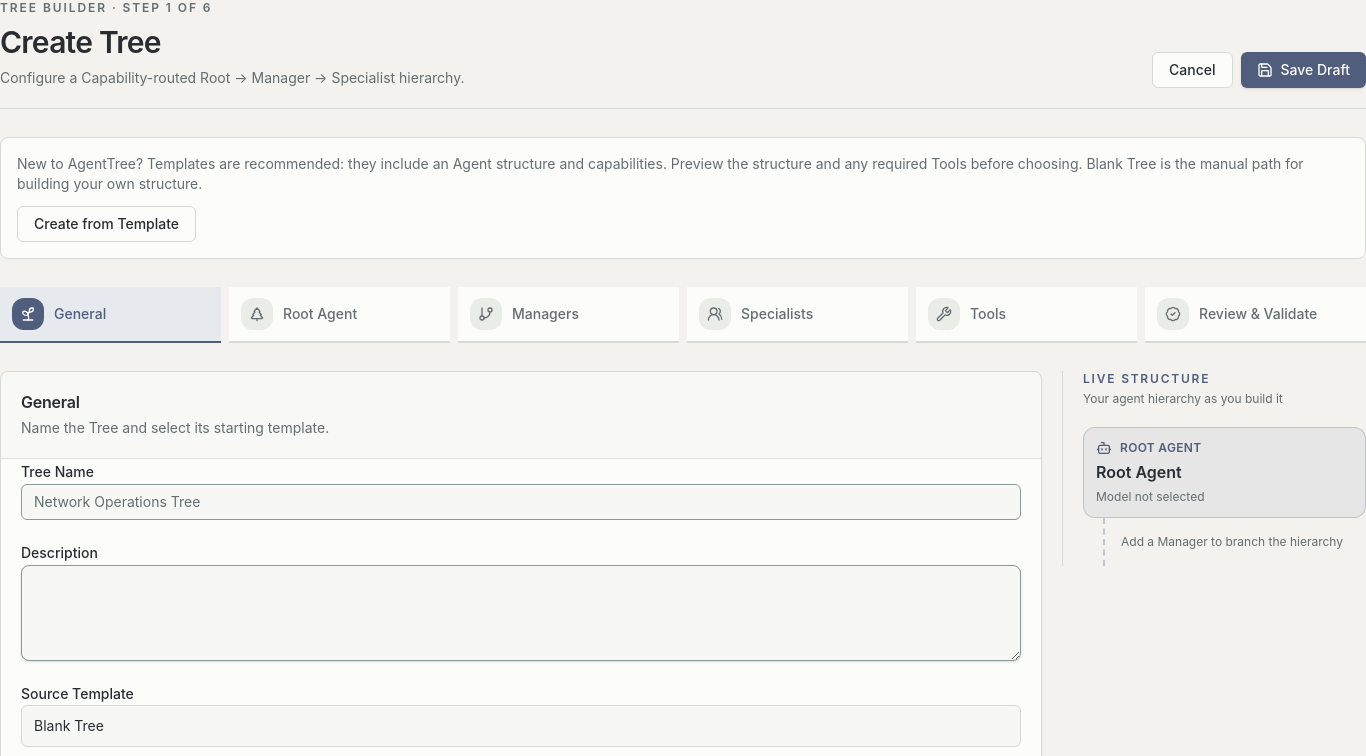
Scenario: Tree draft IDs on secure and LAN HTTP contexts › renders the Wizard and creates distinct Root, Manager, and Specialist IDs without randomUUID
Expected: the heading "Create Tree" is shown, [0, 24, 161, 60]
Click the button "Managers". click: (568, 315)
box: [458, 287, 679, 343]
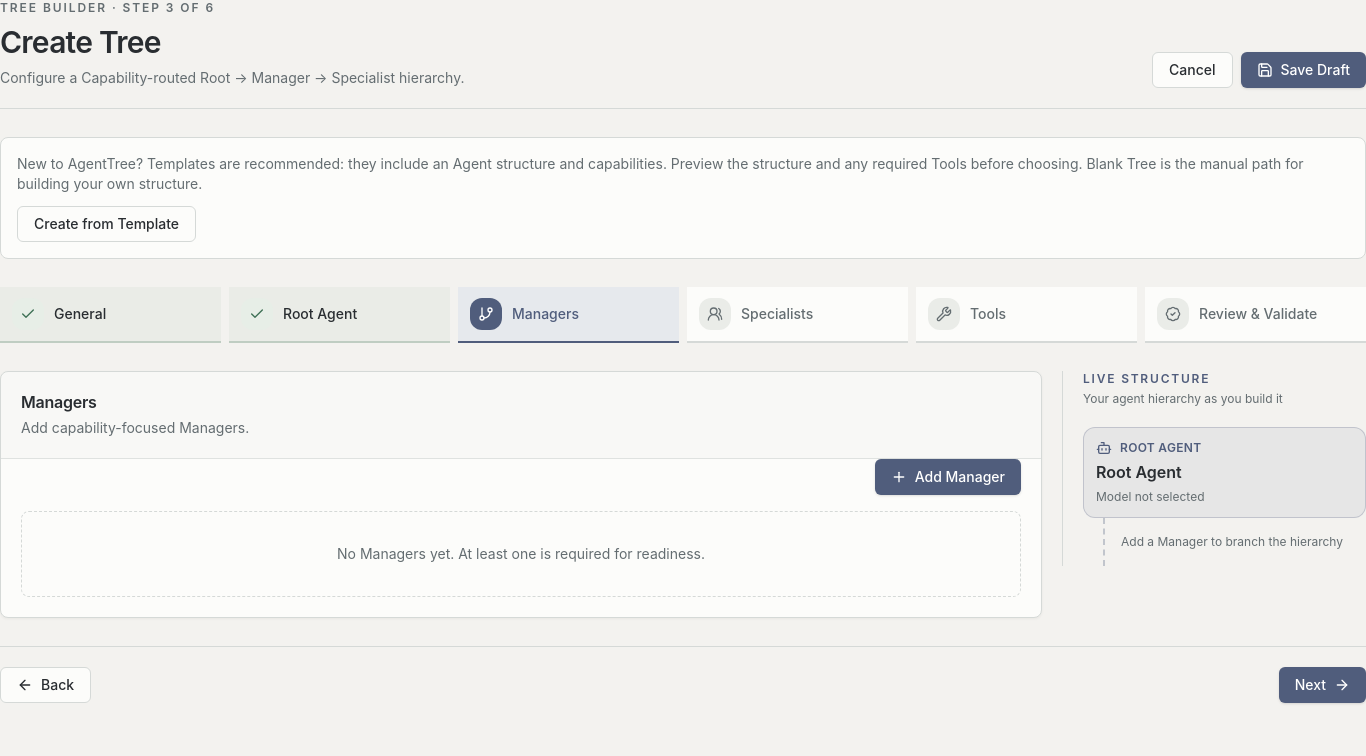
Click the button "Add Manager". click: (948, 477)
box: [875, 459, 1021, 495]
(page scrolled)
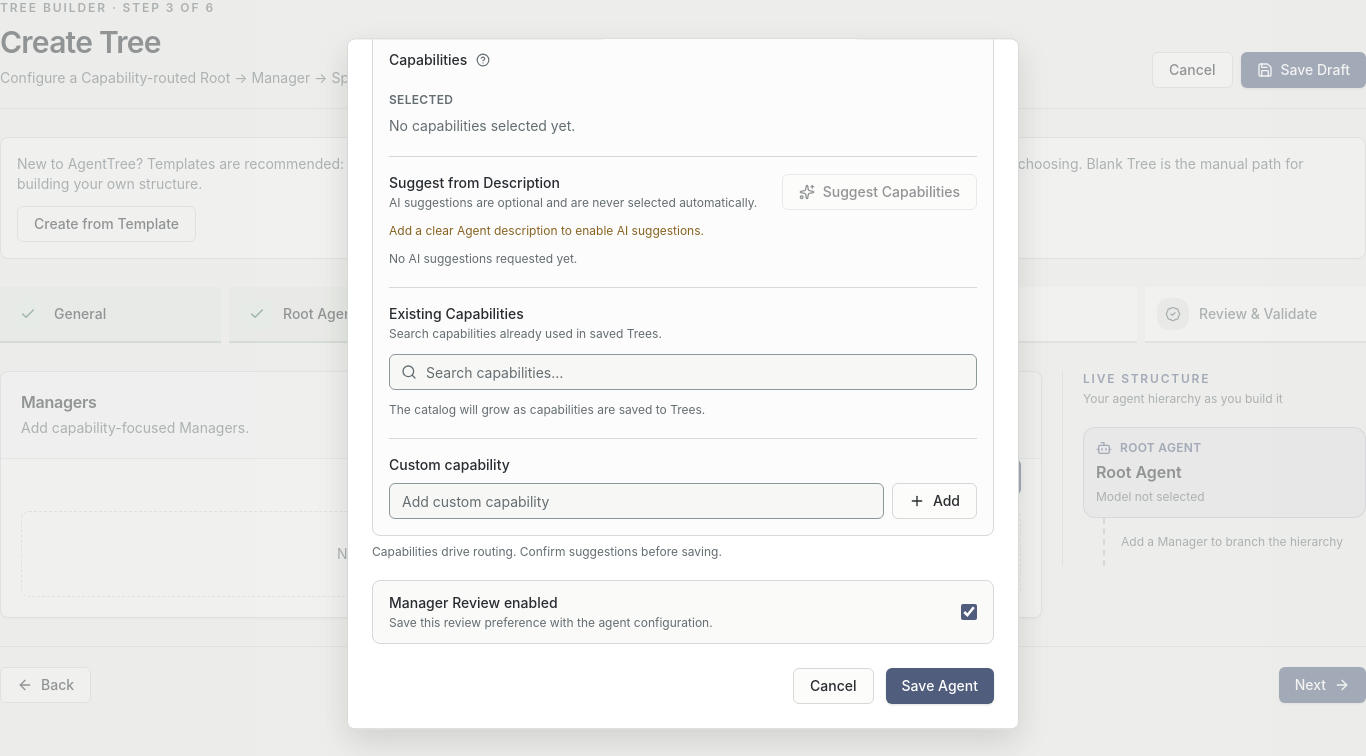
Click the button "Save Agent". click: (940, 687)
box: [886, 669, 994, 705]
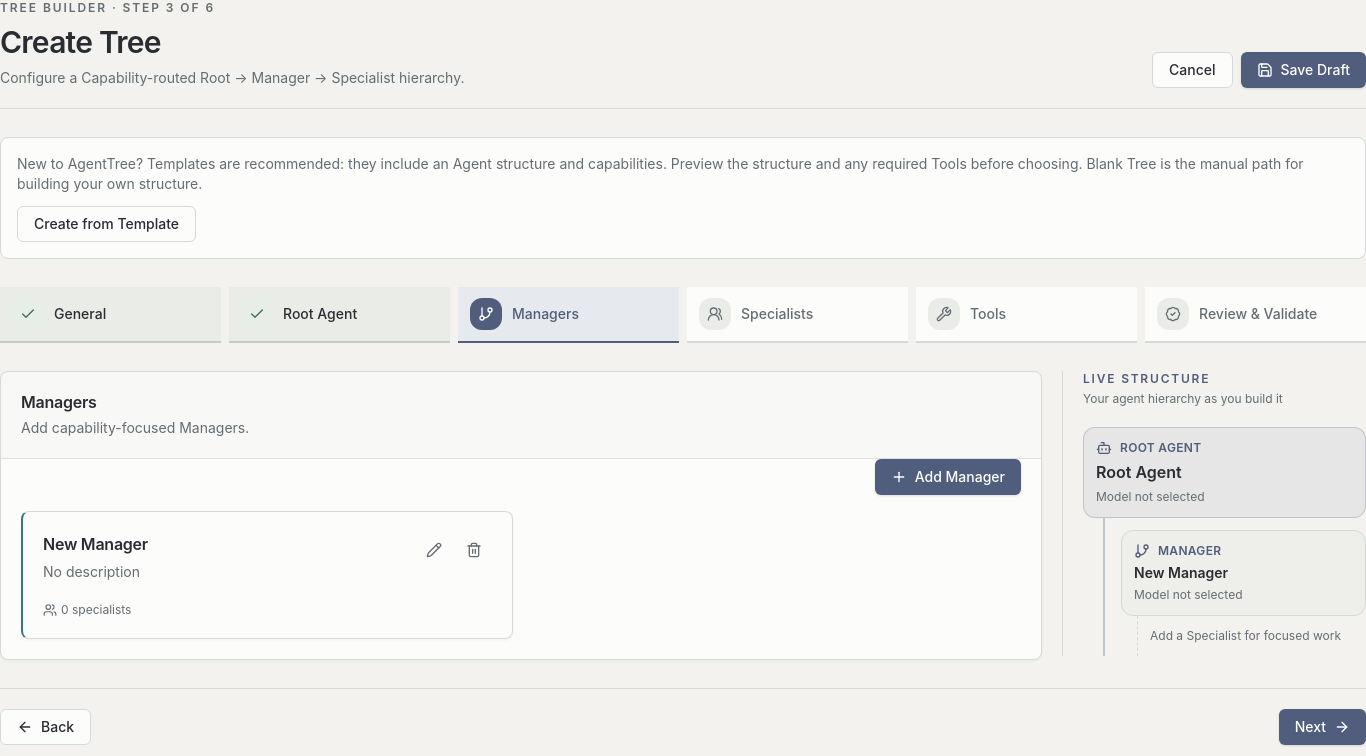
Now the heading "New Manager" is shown, box [43, 532, 148, 556]
Click the button "Specialists". click: (798, 315)
box: [687, 287, 908, 343]
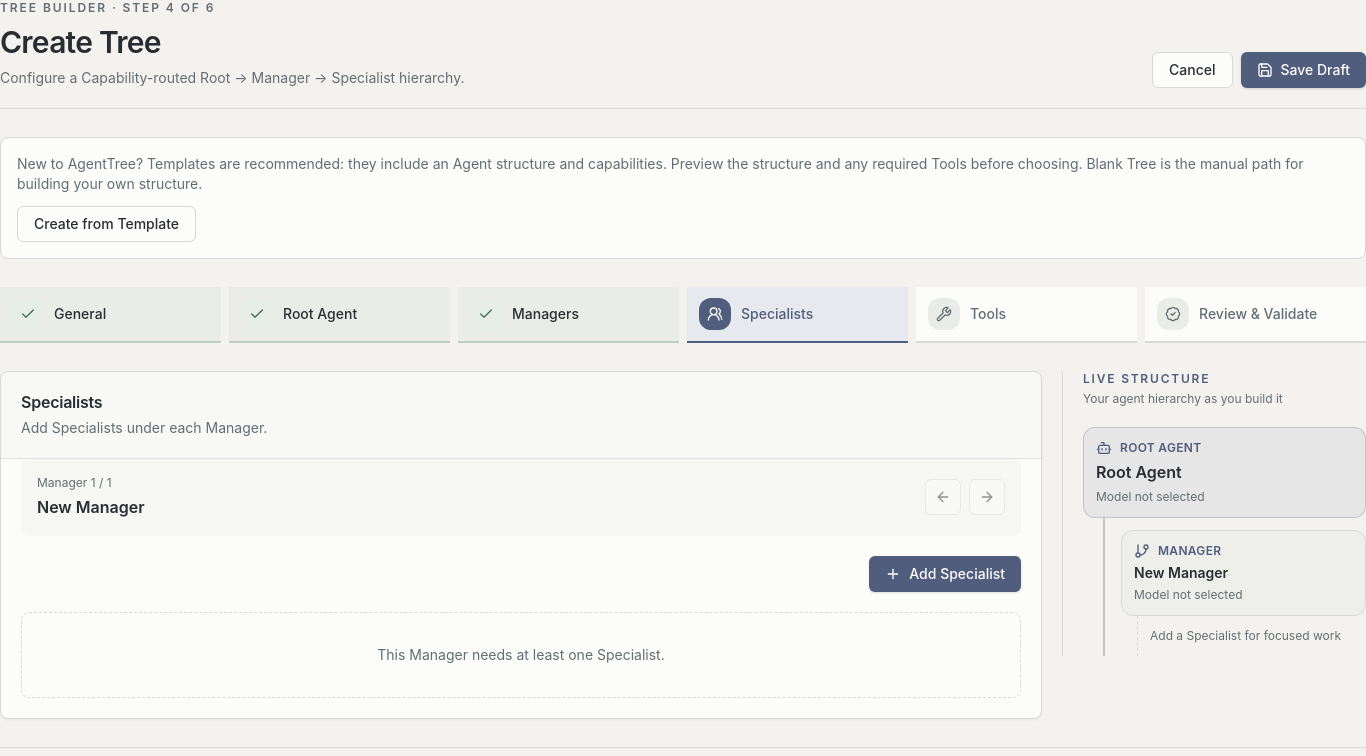
Click the button "Add Specialist". click: (945, 574)
box: [869, 556, 1021, 592]
(page scrolled)
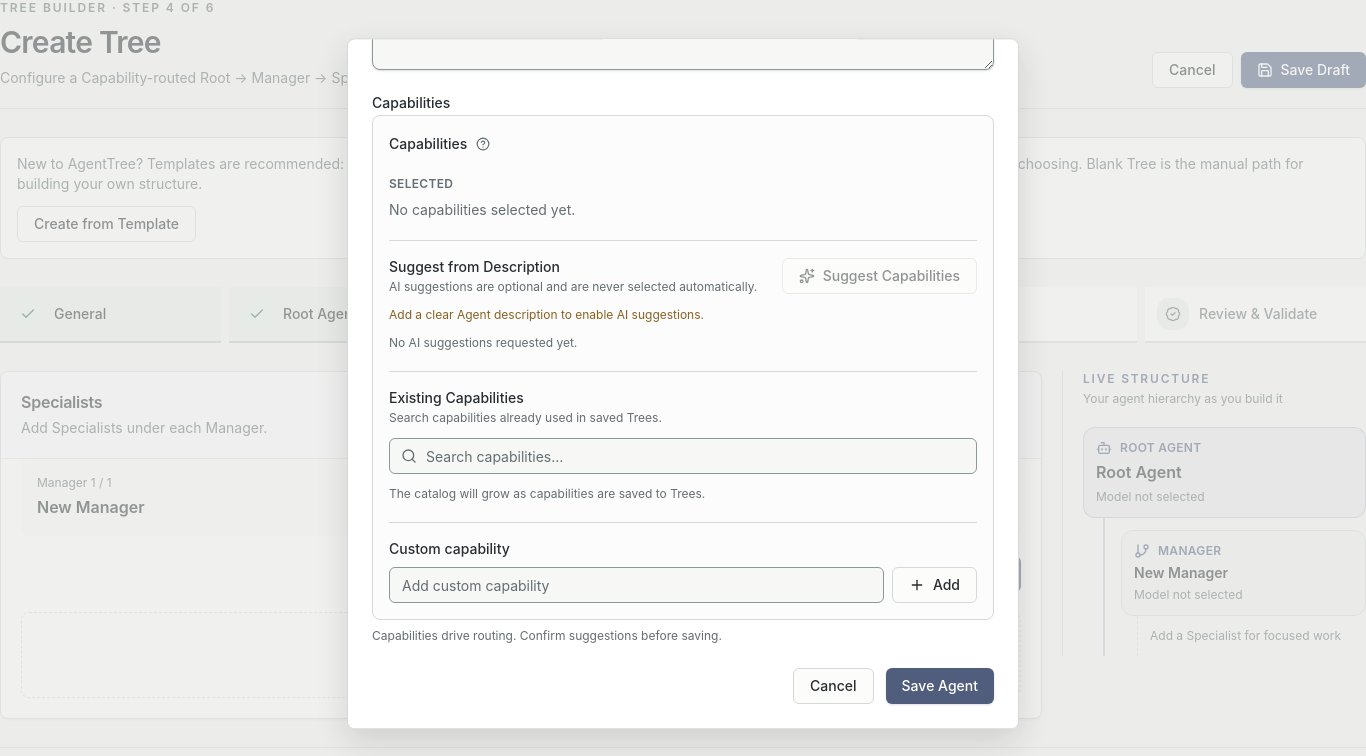
Click the button "Save Agent". click: (940, 687)
box: [886, 669, 994, 705]
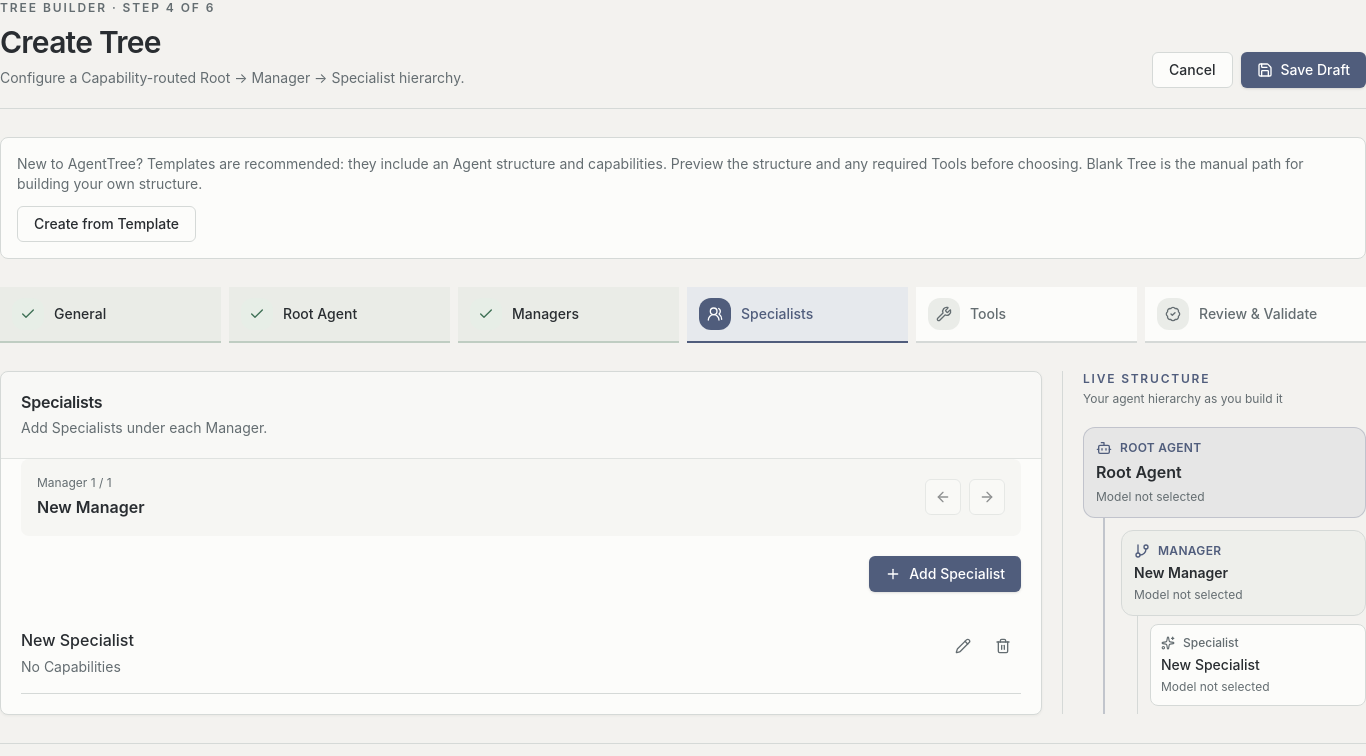
Now the text "New Specialist" below "Add Specialists under each Manager." is shown, box [21, 630, 134, 650]
